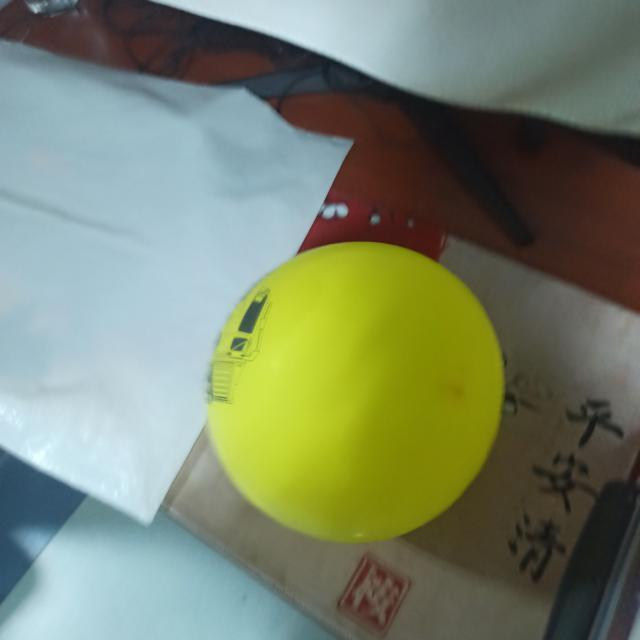balloon: (200, 240, 510, 540)
